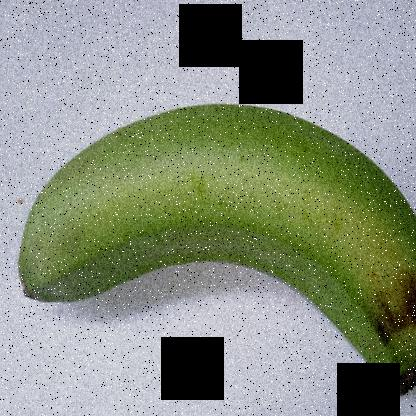freshunripe: (13, 75, 415, 416)
